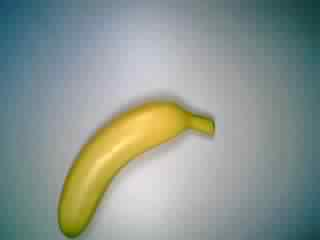banana: (53, 90, 216, 239)
